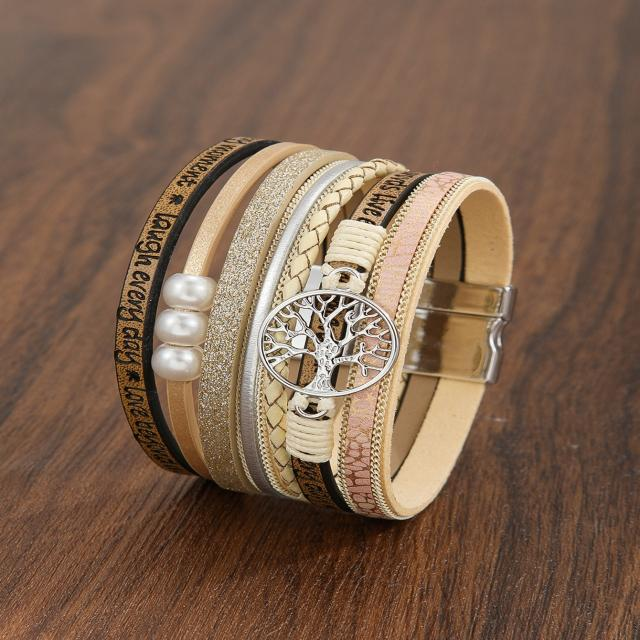bracelet: (77, 76, 604, 528)
